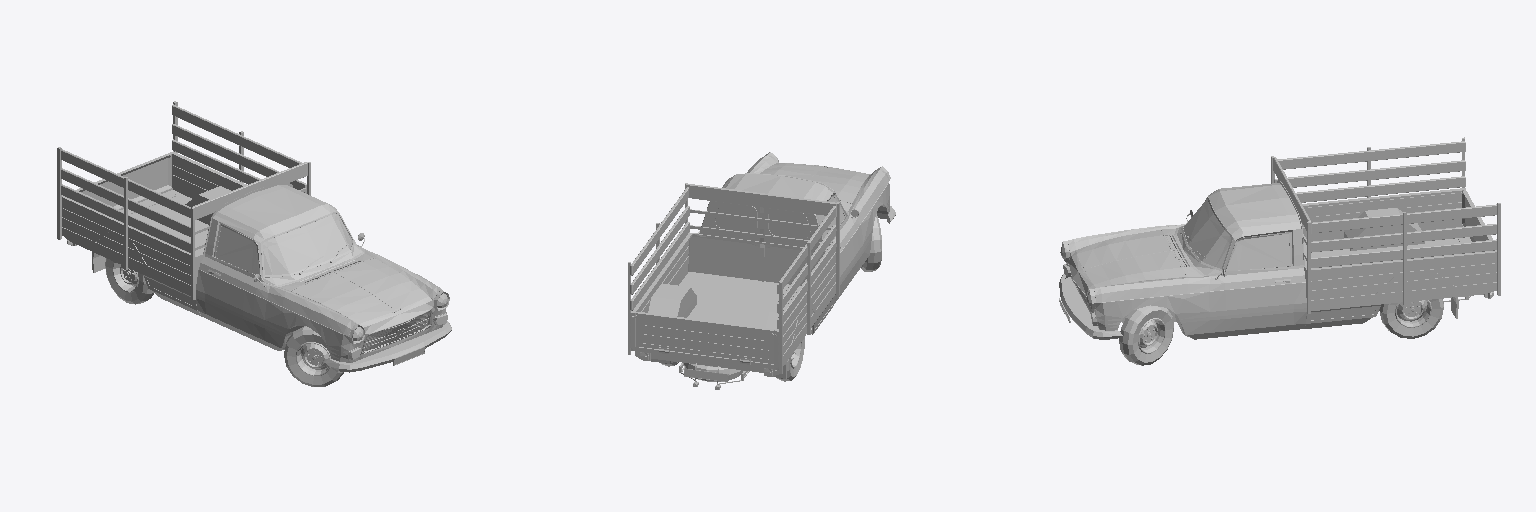
File: peugeot404.obj
3 views of the same model, side by side, from view 1: azimuth 30°, elevation 25°; view 2: azimuth 150°, elevation 25°; view 3: azimuth 270°, elevation 25° (orthographic).
Parts seen in each view (by area): view 1: car_Plane, wheel_Circle.001, wheel.001_Circle.003, motorPlastic_Plane.001; view 2: car_Plane, wheel_Circle.001; view 3: car_Plane, wheel_Circle.001, wheel.001_Circle.003.
Boxes of the visible parts, <box> form: car_Plane: <box>57,101,451,372</box>; wheel_Circle.001: <box>284,326,343,386</box>; wheel.001_Circle.003: <box>105,258,153,304</box>; motorPlastic_Plane.001: <box>363,312,429,351</box>; car_Plane: <box>628,152,895,389</box>; wheel_Circle.001: <box>861,214,881,271</box>; car_Plane: <box>1059,137,1500,339</box>; wheel_Circle.001: <box>1119,305,1173,365</box>; wheel.001_Circle.003: <box>1379,298,1443,338</box>.
Bounding box in the file's own units: 1.54 × 0.9273 × 2.78.